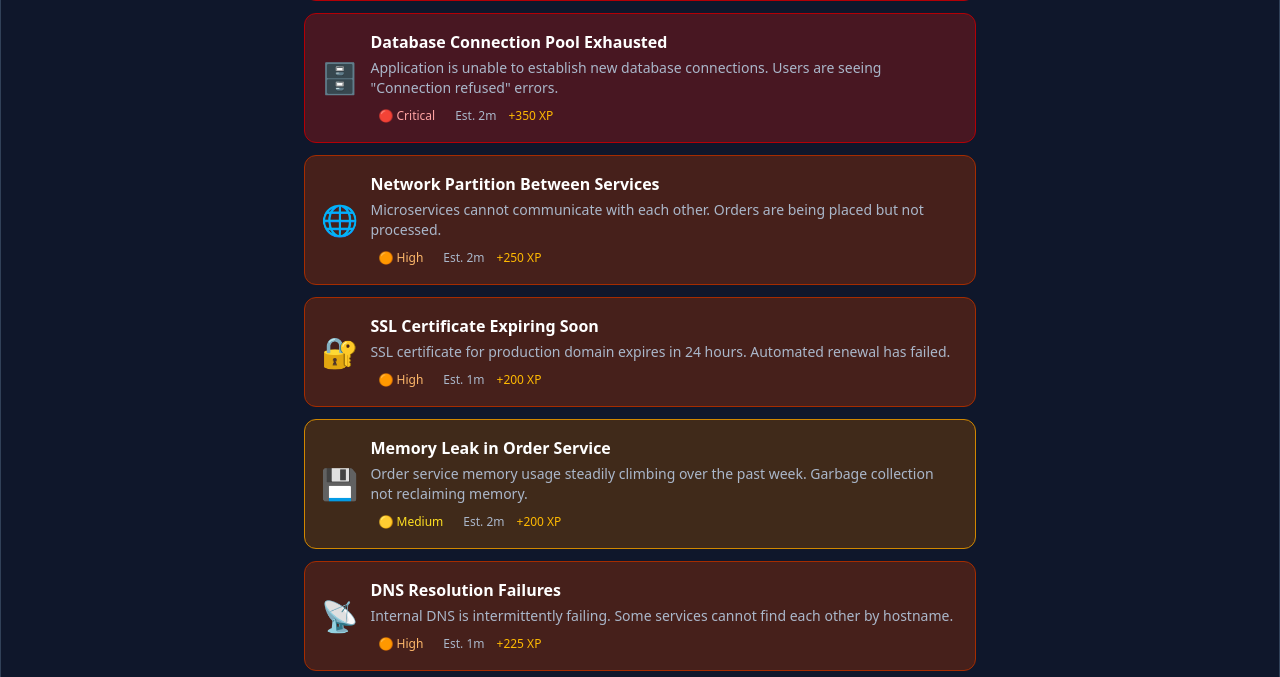
IncidentSimulator › aborts back to the scenario menu
(page scrolled)
Click the button "SSL Certificate Expiring Soon".
click(640, 352)  # box [304,297,976,407]
(page scrolled)
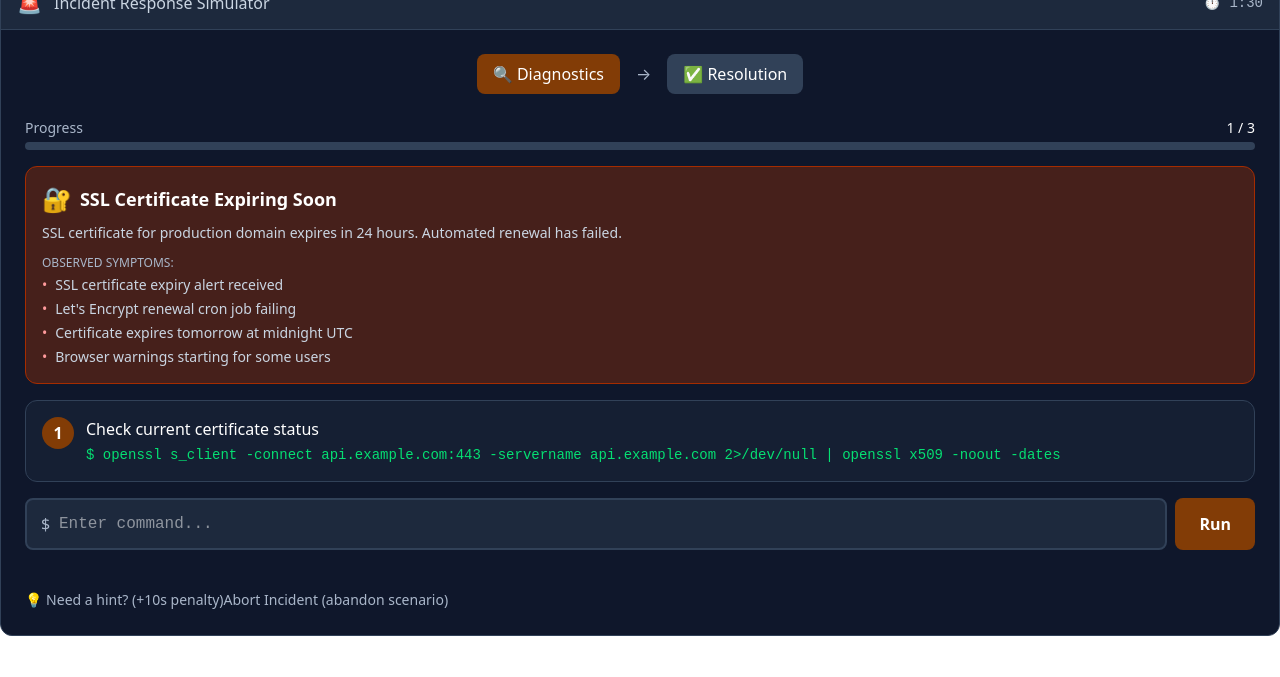
Click the button "Abort Incident (abandon scenario)".
click(336, 600)  # box [224,590,448,610]
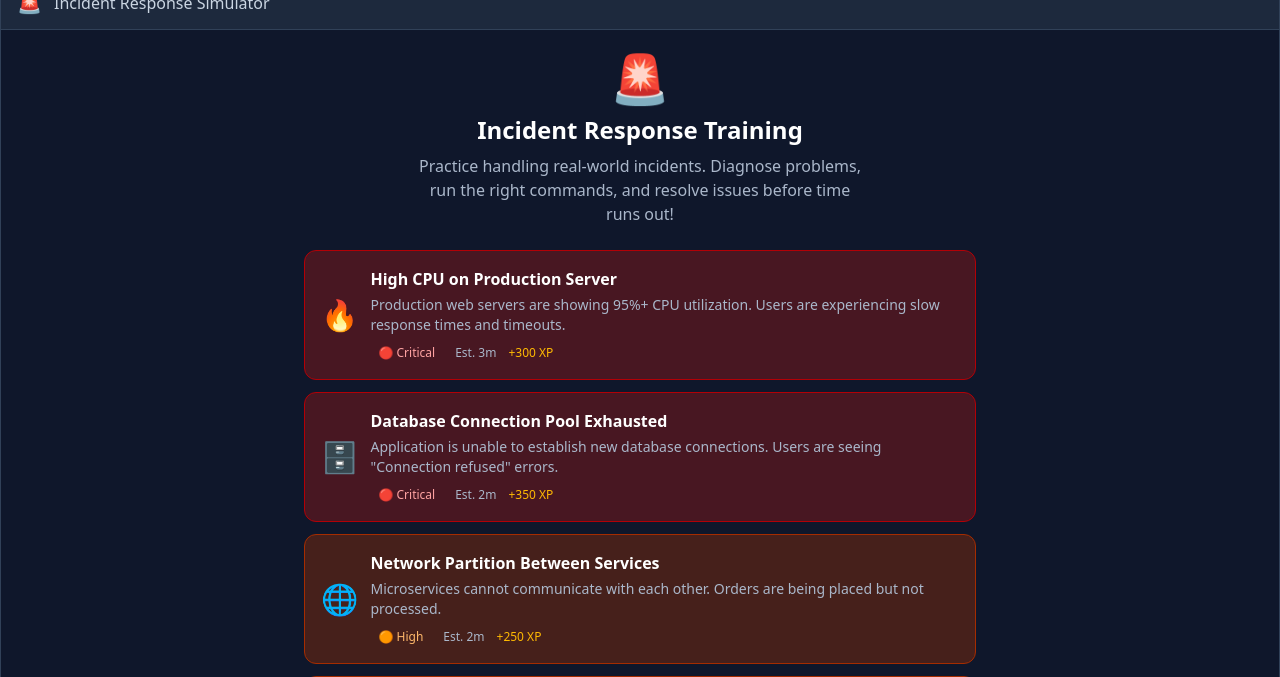
expect the field with placeholder "Enter command..." is not shown: met
expect the heading "Incident Response Training" is shown: met, box [477,113,803,146]
